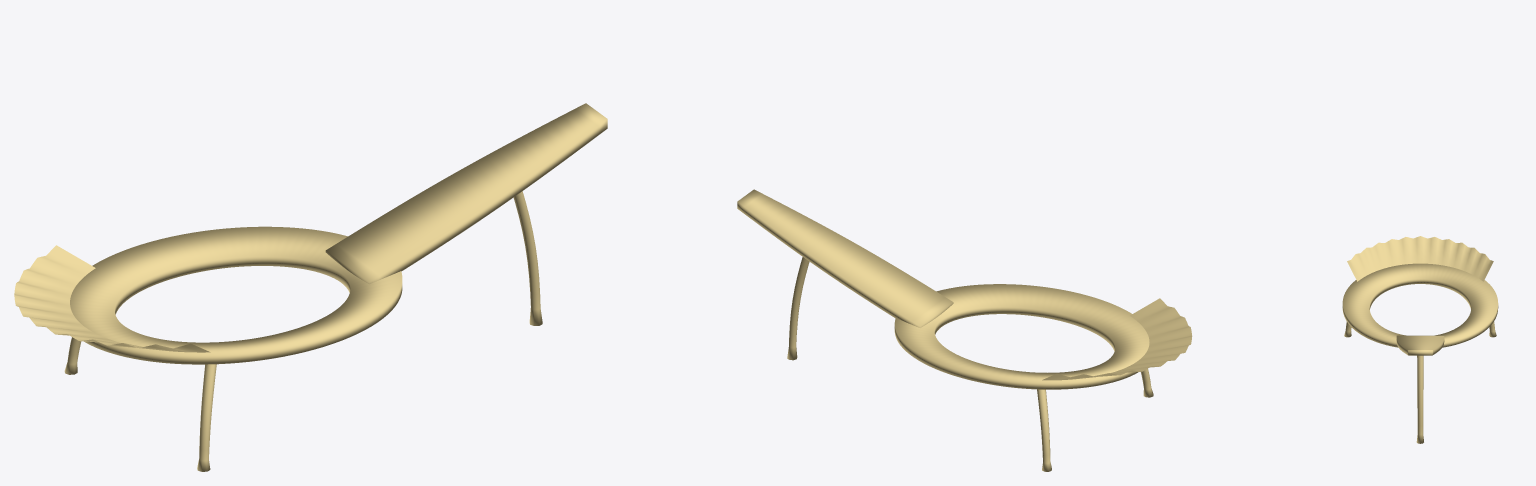
File: shankh_stand.glb
3 renders of one model, left to right at view 1: azimuth 30°, elevation 25°; view 2: azimuth 150°, elevation 25°; view 3: azimuth 270°, elevation 25°, orthographic. The views are drawn at different scales.
Visible parts, largest first — view 1: Shankh_Stand; view 2: Shankh_Stand; view 3: Shankh_Stand.
Part boxes in pixels (x1,y1,x2,y2): Shankh_Stand: (14,103,607,471); Shankh_Stand: (737,189,1192,471); Shankh_Stand: (1342,236,1498,443).
Size of the model in its own units: 4.04 by 2.99 by 1.99.
